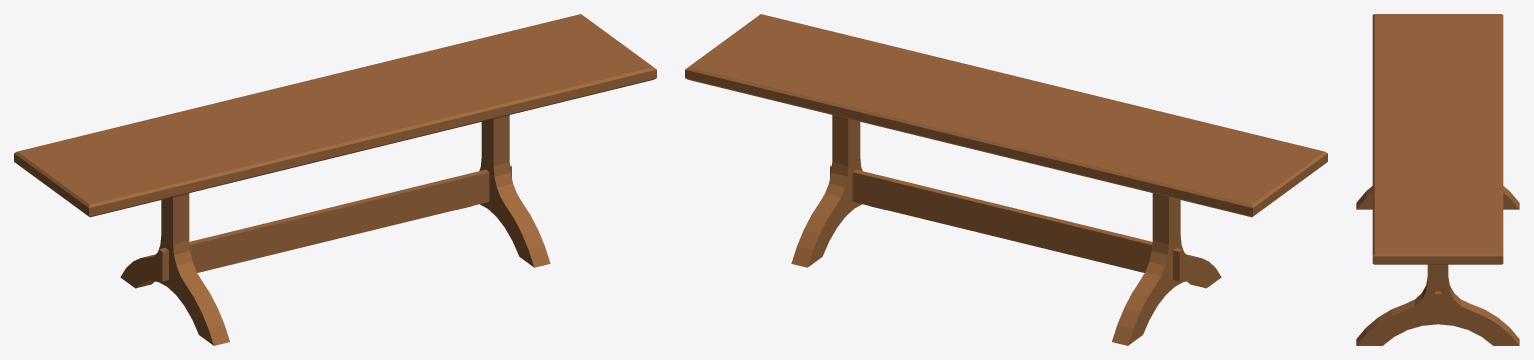
Rendered from Bench-transformed.glb.
3 views of the same model, side by side, from view 1: azimuth 30°, elevation 25°; view 2: azimuth 150°, elevation 25°; view 3: azimuth 270°, elevation 25° (orthographic). The views are drawn at different scales.
Visible parts, largest first — view 1: Node; view 2: Node; view 3: Node.
Part boxes in pixels (left/top/right/bottom): Node: left=14, top=14, right=656, bottom=345; Node: left=685, top=14, right=1327, bottom=345; Node: left=1356, top=14, right=1519, bottom=345.
Size of the model in its own units: 70 by 19 by 20.
